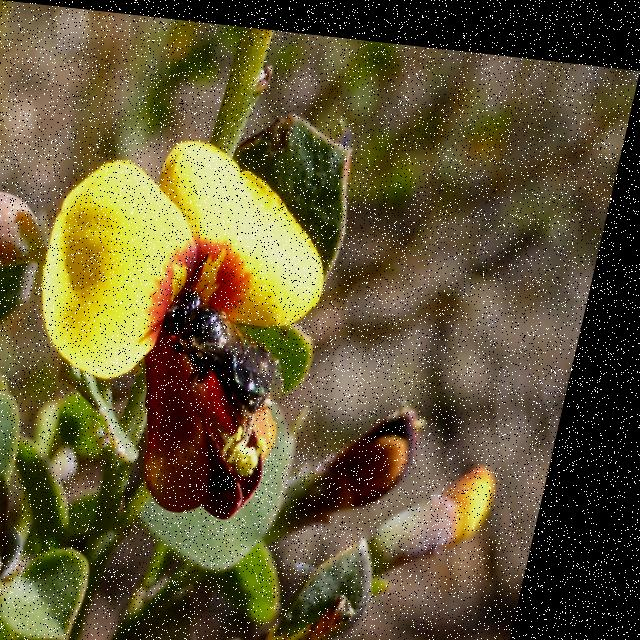Braunsapis: (162, 253, 333, 414)
